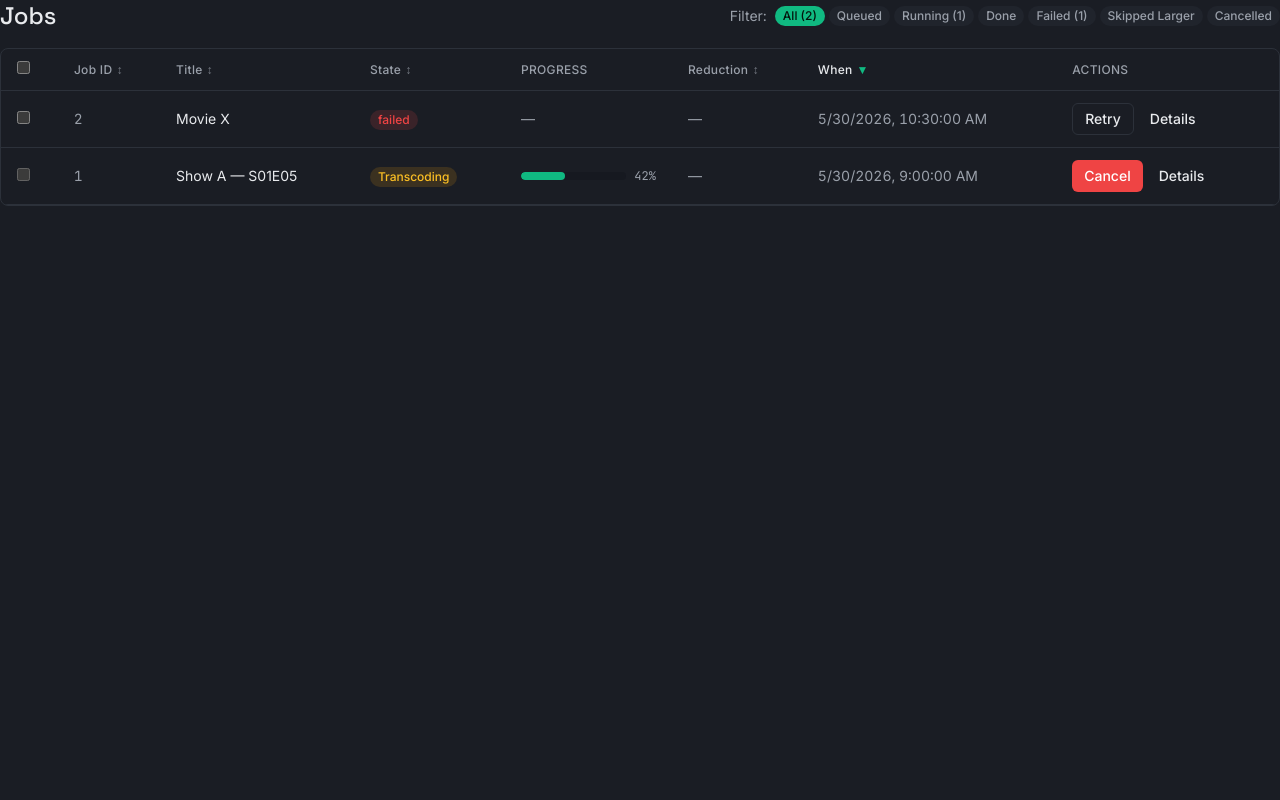
Test case: opening details shows the job log
Expected: the text "Movie X" is shown, [160,90,354,148]
Click the button "Details" in the row of "Movie X". click: (1173,119)
box: [1138,103,1208,135]
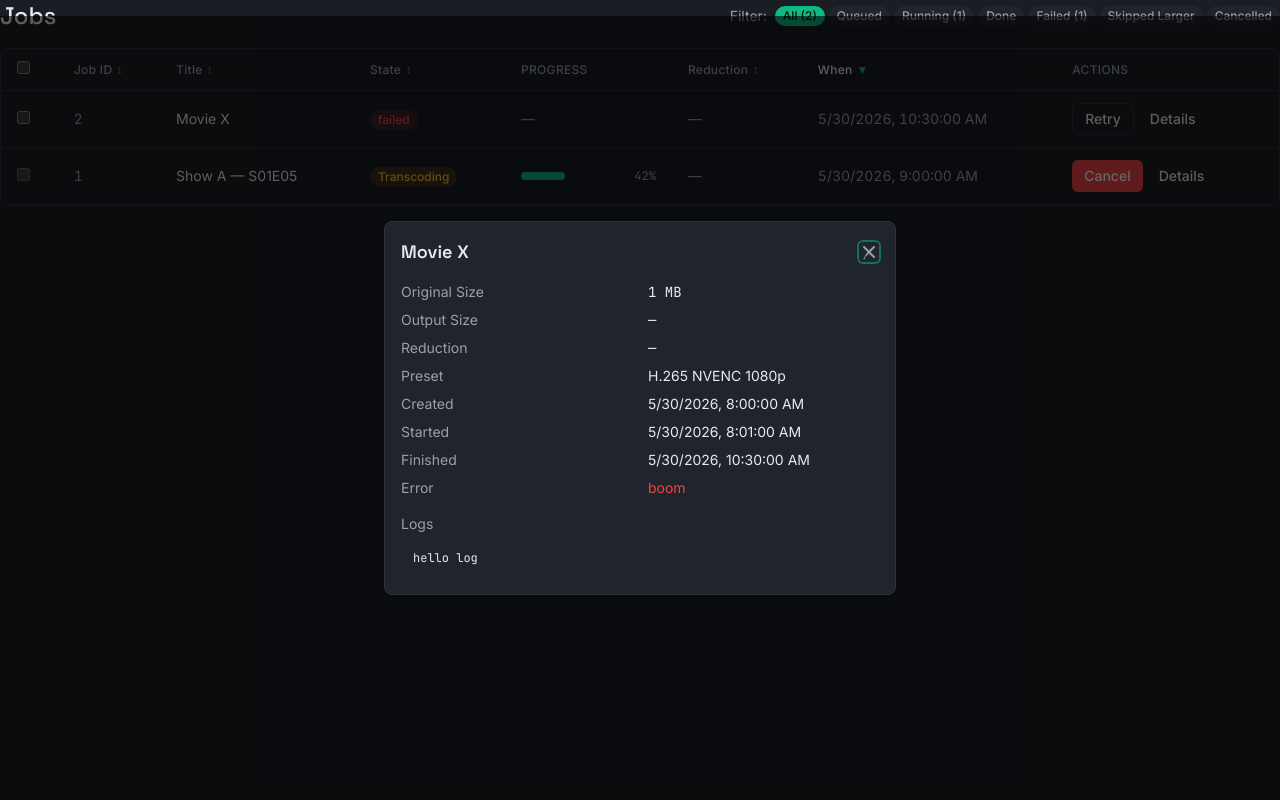
Now the text "hello log" is shown, box [401,538,879,578]
